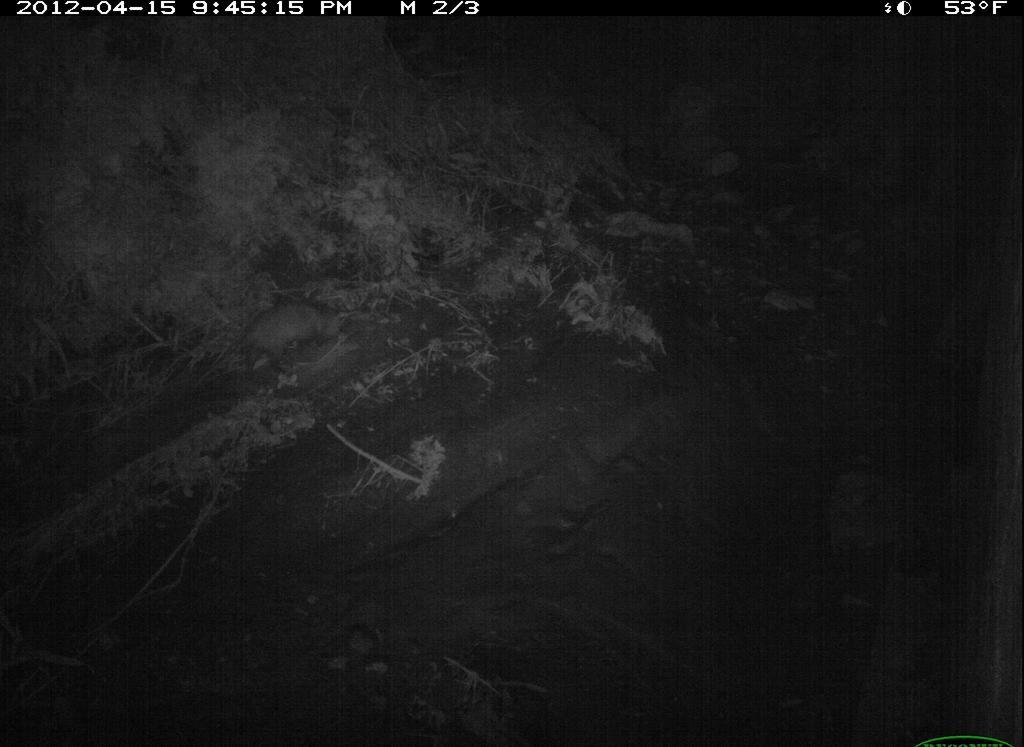opossum: (205, 286, 390, 399)
